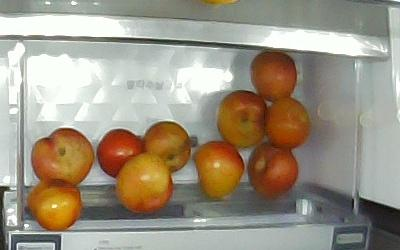prune: (117, 153, 175, 214), (32, 128, 94, 185), (191, 141, 245, 200), (248, 142, 299, 200), (28, 179, 82, 231), (218, 89, 266, 147), (249, 51, 297, 102), (143, 121, 190, 172), (97, 129, 144, 178), (266, 98, 311, 149)
